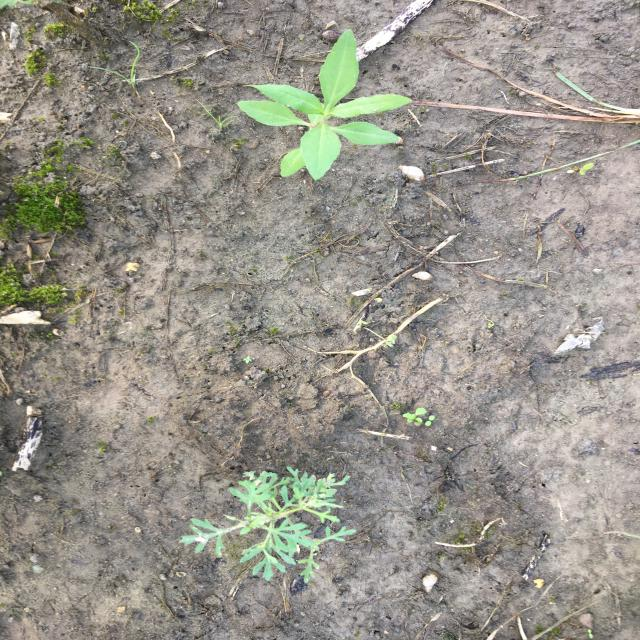Eclipta: (236, 27, 414, 183)
Ragweed: (177, 464, 360, 586)
